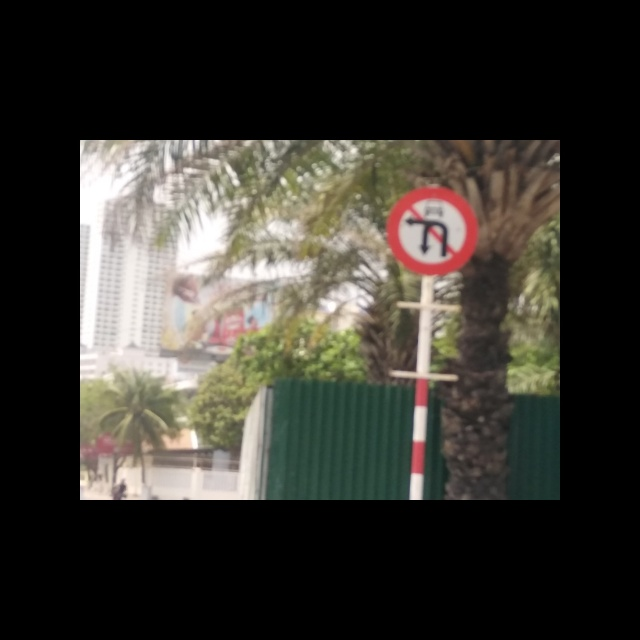Cấm xe ô tô quay đầu và rẽ trái: (388, 185, 479, 274)
